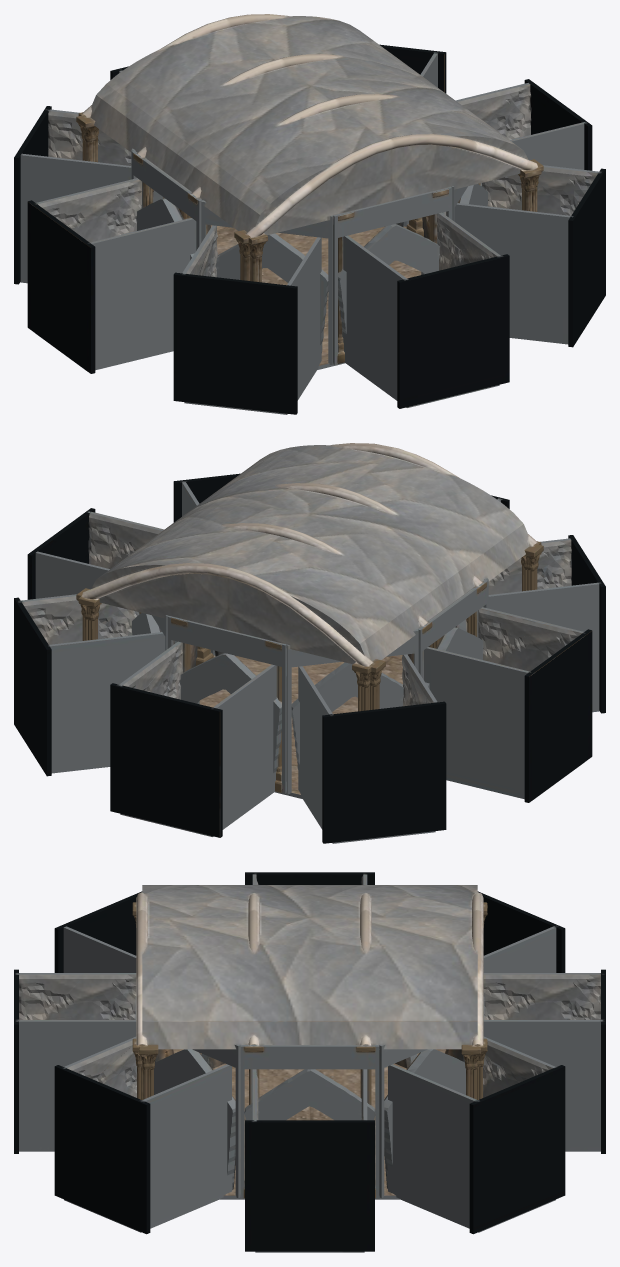
File: room.glb
The picture shows the model from 3 angles, top to bottom: view 1: azimuth 30°, elevation 25°; view 2: azimuth 150°, elevation 25°; view 3: azimuth 270°, elevation 25°; orthographic projection. The views are drawn at different scales.
Parts seen in each view (by area): view 1: DIAMOND-7; view 2: DIAMOND-7; view 3: DIAMOND-7.
Boxes of the visible parts, bbox=[...] form: DIAMOND-7: bbox=[14, 14, 605, 414]; DIAMOND-7: bbox=[14, 443, 605, 843]; DIAMOND-7: bbox=[14, 872, 605, 1252].
Bounding box in the file's own units: 14.12 × 5.75 × 14.12.
1 material, 1 textured.
